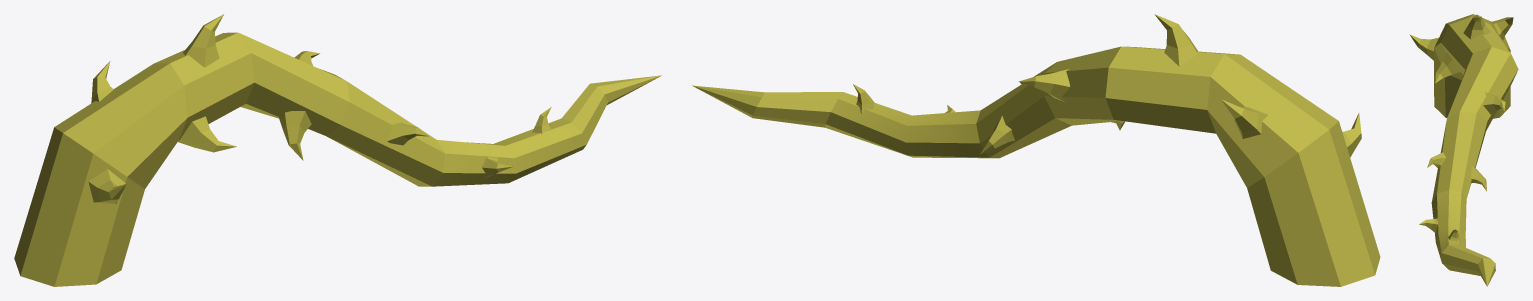
Rendered from Spikes_00.FBX.
The picture shows the model from 3 angles, left to right: view 1: azimuth 30°, elevation 25°; view 2: azimuth 150°, elevation 25°; view 3: azimuth 270°, elevation 25°; orthographic projection. The views are drawn at different scales.
Visible parts, largest first — view 1: Spikes_00; view 2: Spikes_00; view 3: Spikes_00.
Part boxes in pixels (x1,y1,x2,y2): Spikes_00: (14, 14, 661, 286); Spikes_00: (692, 14, 1380, 286); Spikes_00: (1409, 14, 1518, 286).
Size of the model in its own units: 111 by 34.93 by 23.32.
